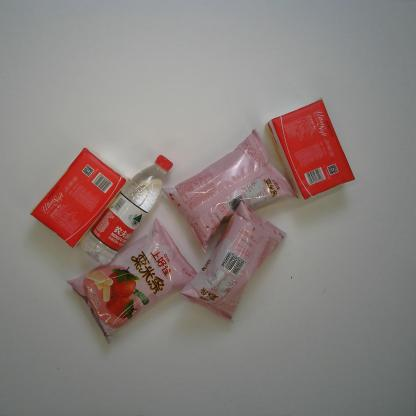Drink: (77, 150, 174, 266)
Puffed Food: (161, 125, 297, 254), (65, 218, 199, 345), (179, 197, 287, 326)
Tissue: (29, 148, 129, 250), (266, 97, 355, 203)
